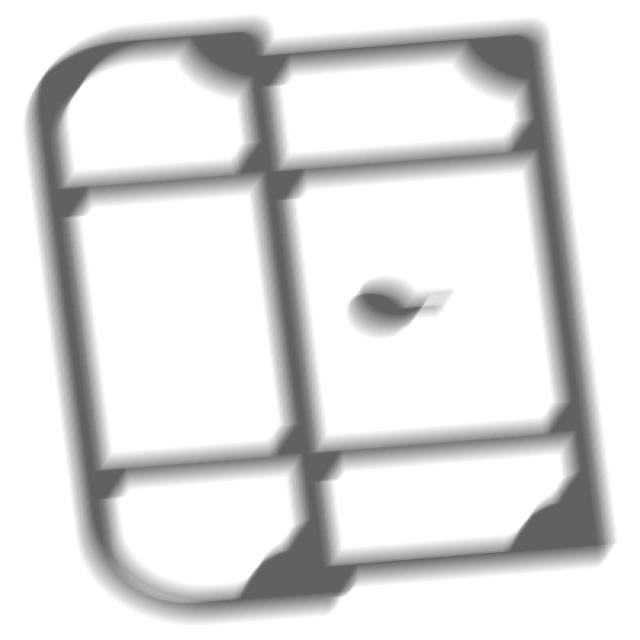treasure_box: (20, 10, 629, 635)
